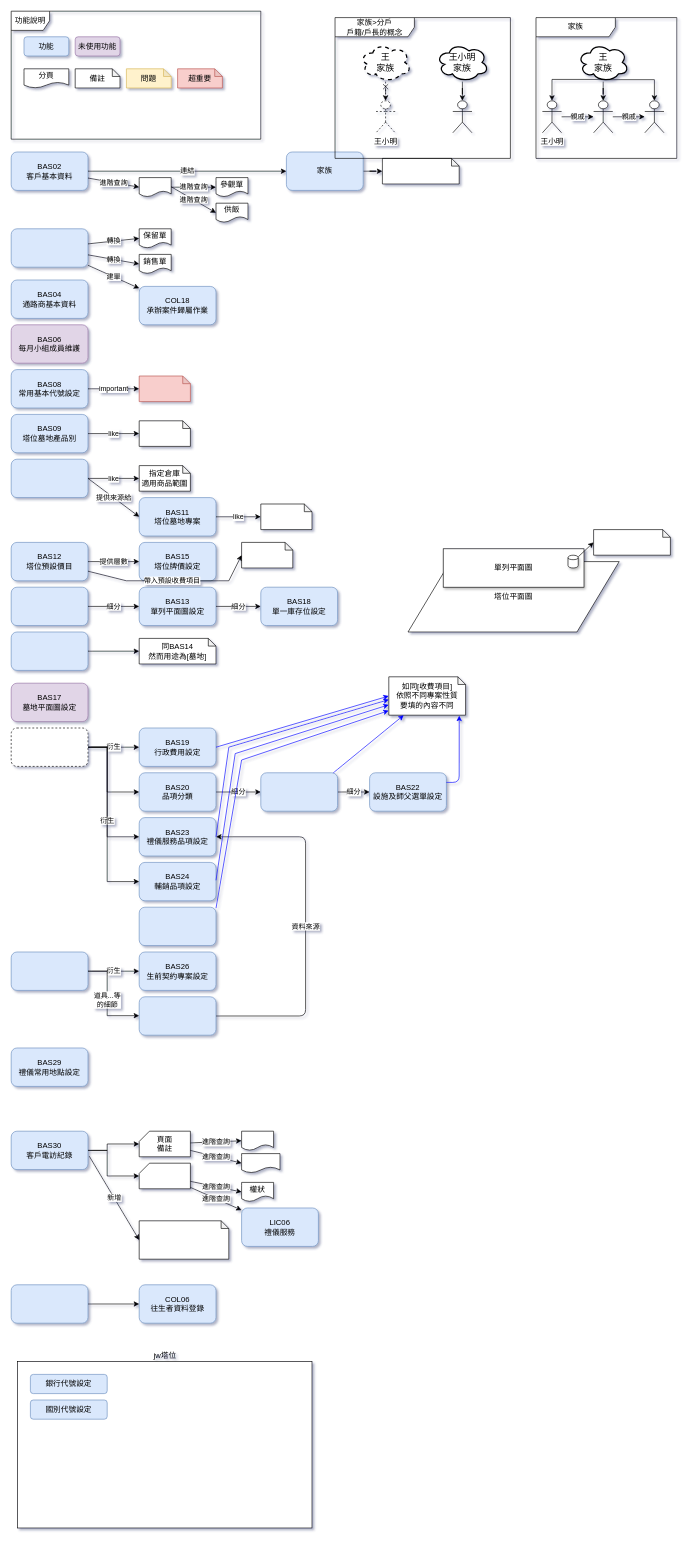
This 692x1543 diagram has some shape labels left out. The shapes that lost their labels are listed below. From the top down, each one's centre as x and y in pixels, then its label:
(x=462, y=116): 王小明A
(x=603, y=116): 王五
(x=654, y=116): 趙六
(x=155, y=187): 產品
(x=420, y=171): 只能透過彈出視窗 新增/修改
(x=49, y=247): BAS03 客戶參觀表
(x=164, y=388): 所有變數的 單位參考
(x=164, y=433): 商品基本資料
(x=49, y=478): BAS10 棟別樓層區域代號
(x=286, y=516): 銷售商品 企劃案
(x=267, y=555): COL03 銷售作業
(x=631, y=542): 單一庫存位設定
(x=49, y=606): BAS14 塔位平面圖
(x=49, y=650): BAS16 整列墓地編號建立
(x=49, y=746): 鼎新TIPTOP
(x=299, y=791): BAS21 日常代辦事項設定
(x=177, y=926): BAS32 生前契約手續費
(x=49, y=970): BAS25 生前契約產品別設定
(x=177, y=1015): BAS28 契約標準採辦清單
(x=257, y=1140): 往生者
(x=164, y=1176): 頁面 產品列表
(x=260, y=1163): 客戶資訊
(x=184, y=1239): 指定客戶後 「修改」新增電訪紀錄
(x=49, y=1303): 往生者資料
